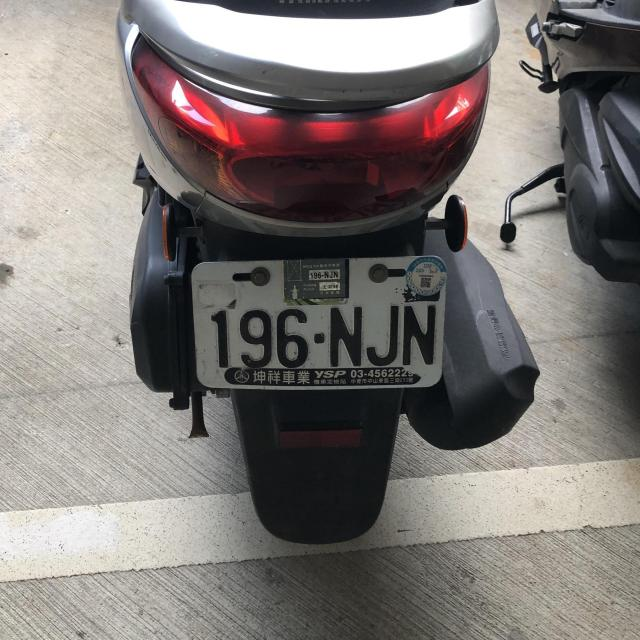W: (187, 252, 450, 396)
